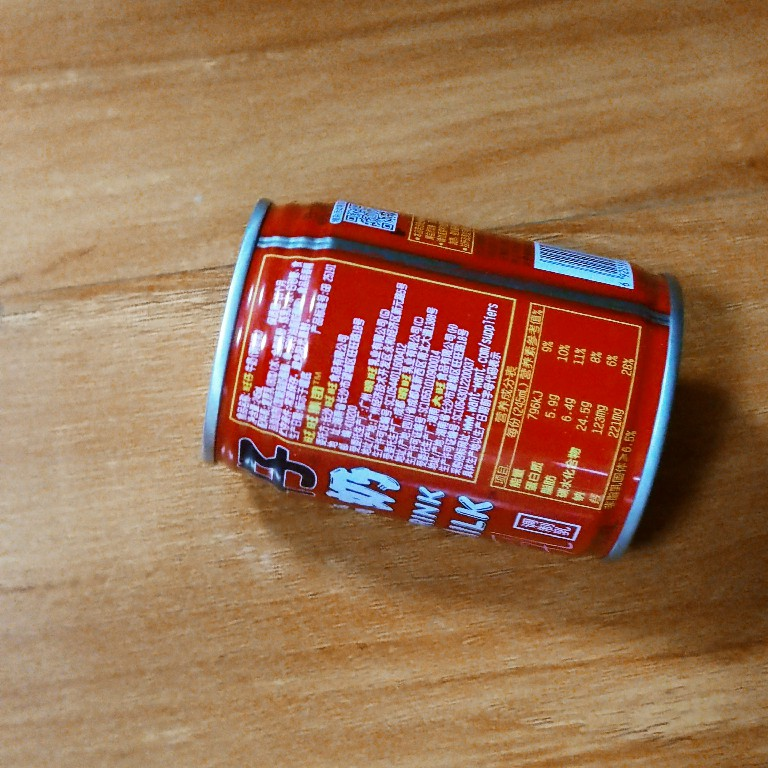can: (197, 195, 687, 565)
